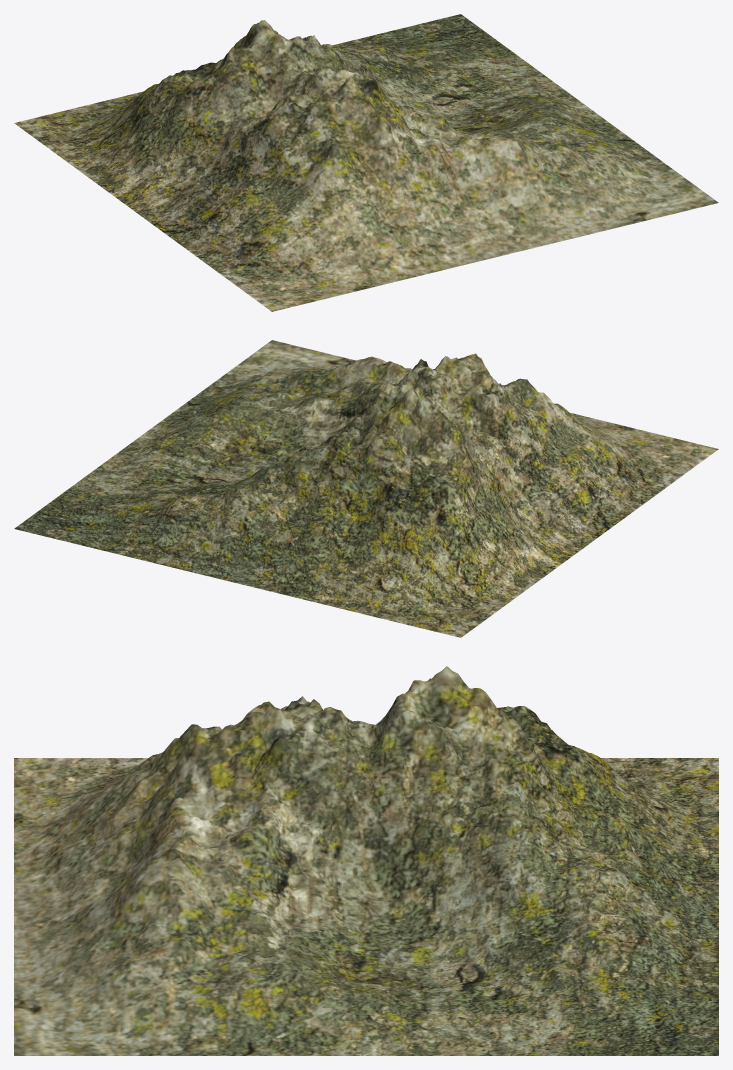
Rendered from new_hill.obj.
The picture shows the model from 3 angles, top to bottom: view 1: azimuth 30°, elevation 25°; view 2: azimuth 150°, elevation 25°; view 3: azimuth 270°, elevation 25°; orthographic projection. The views are drawn at different scales.
Visible parts, largest first — view 1: Landscape; view 2: Landscape; view 3: Landscape.
Part boxes in pixels (bbox=[...]): Landscape: bbox=[14, 14, 718, 311]; Landscape: bbox=[14, 340, 718, 637]; Landscape: bbox=[14, 666, 718, 1055].
Size of the model in its own units: 227 by 67.69 by 227.
